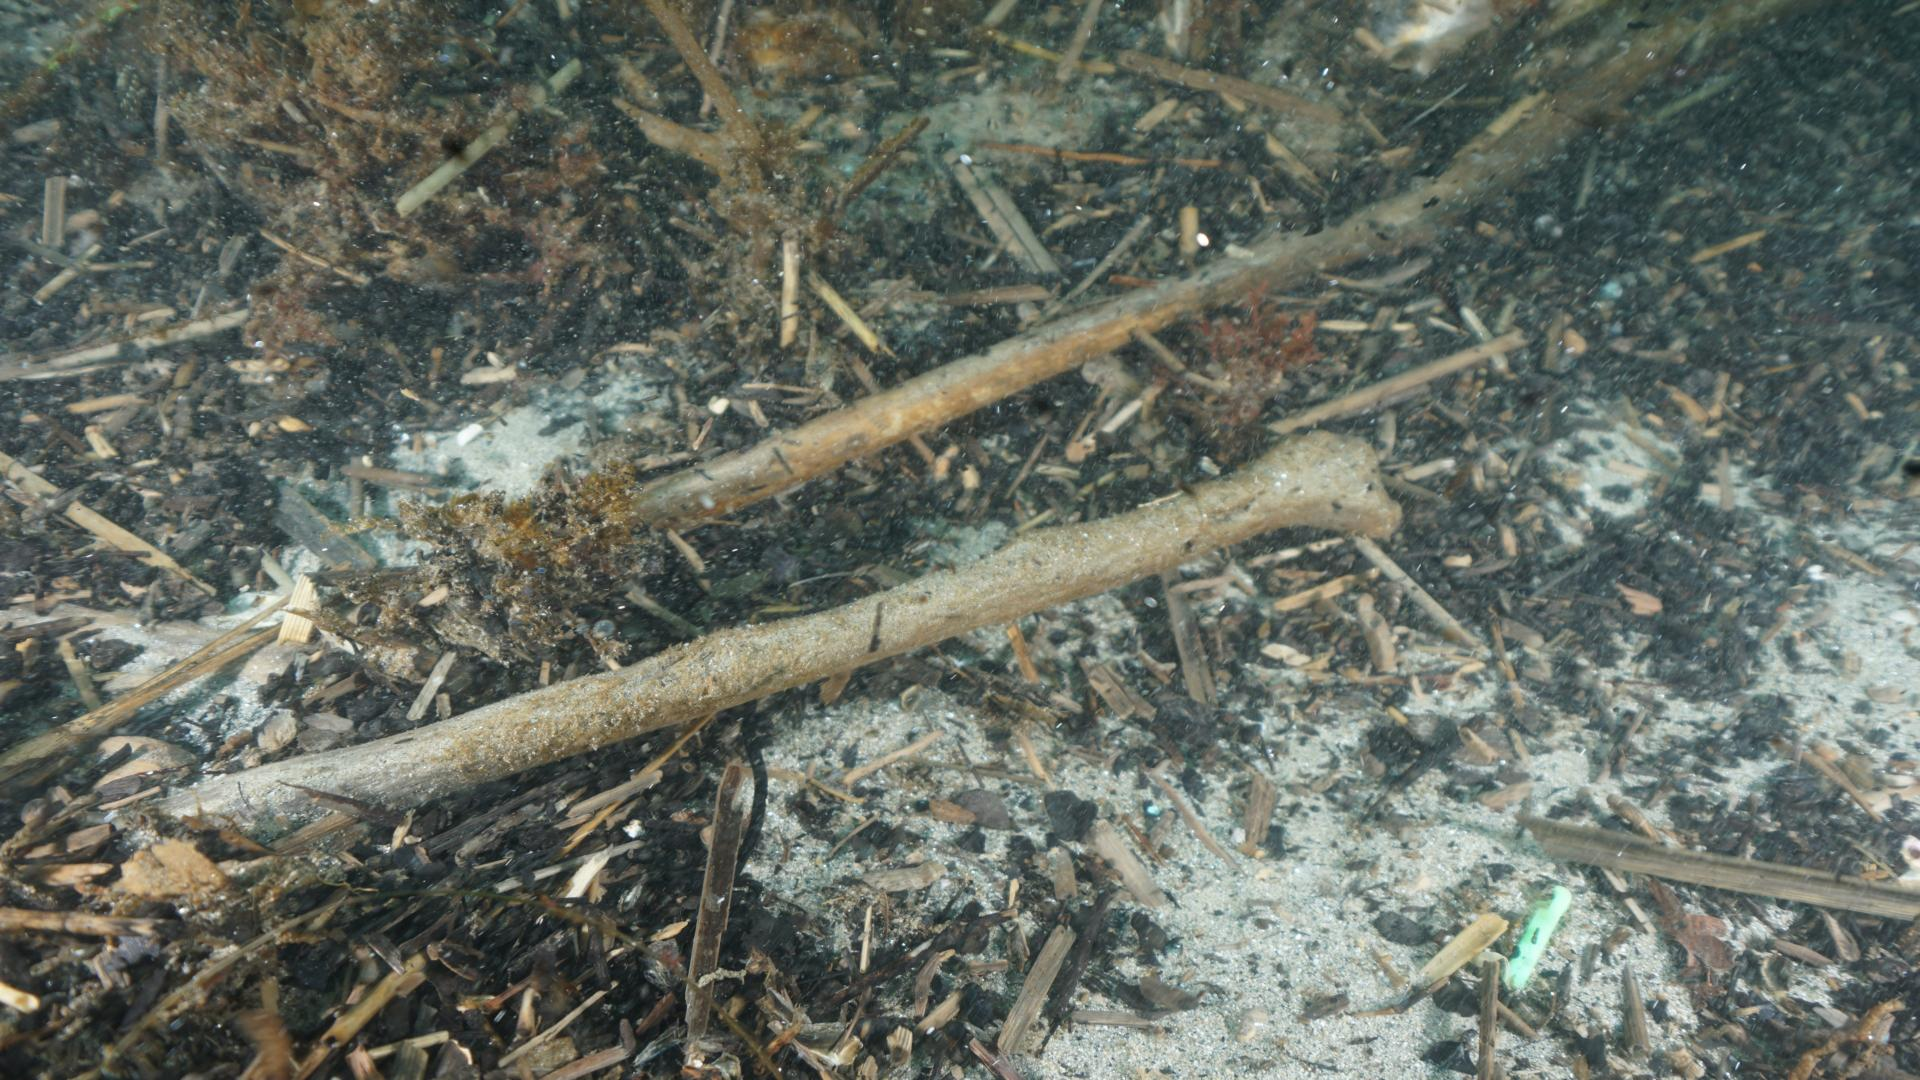wood: (616, 16, 1673, 547), (157, 427, 1400, 851)
